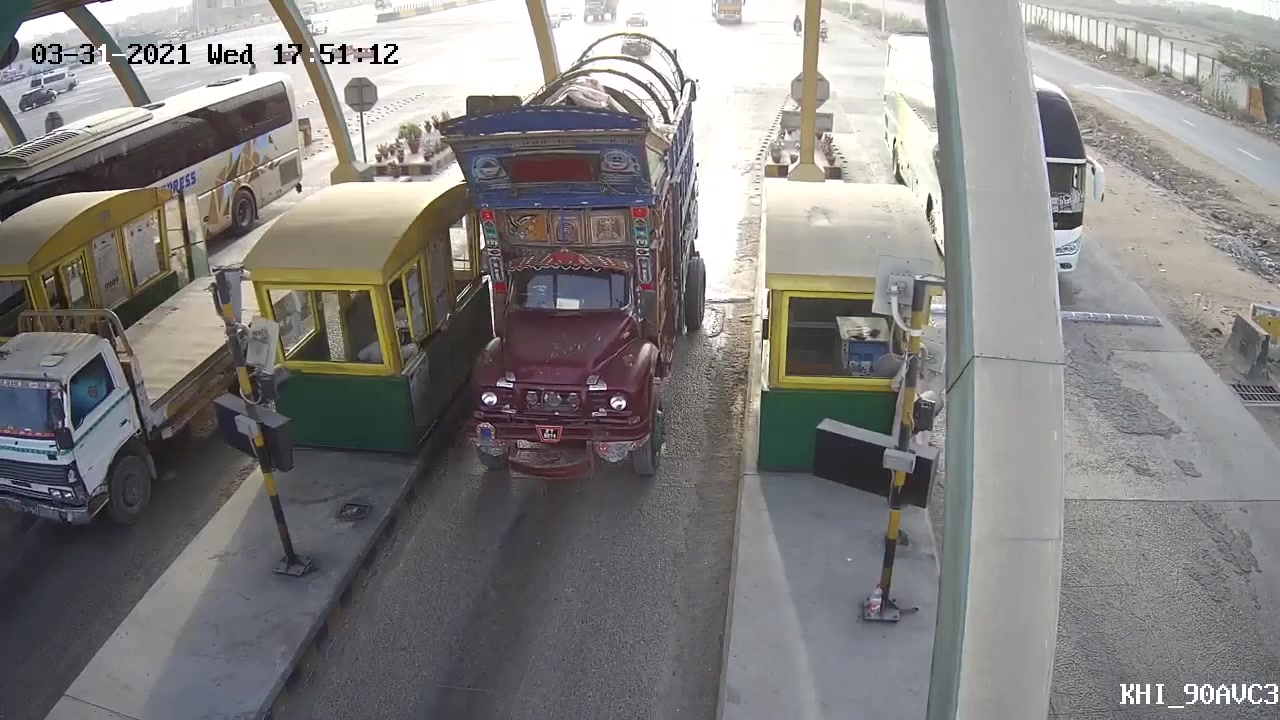F5: (442, 29, 713, 512)
